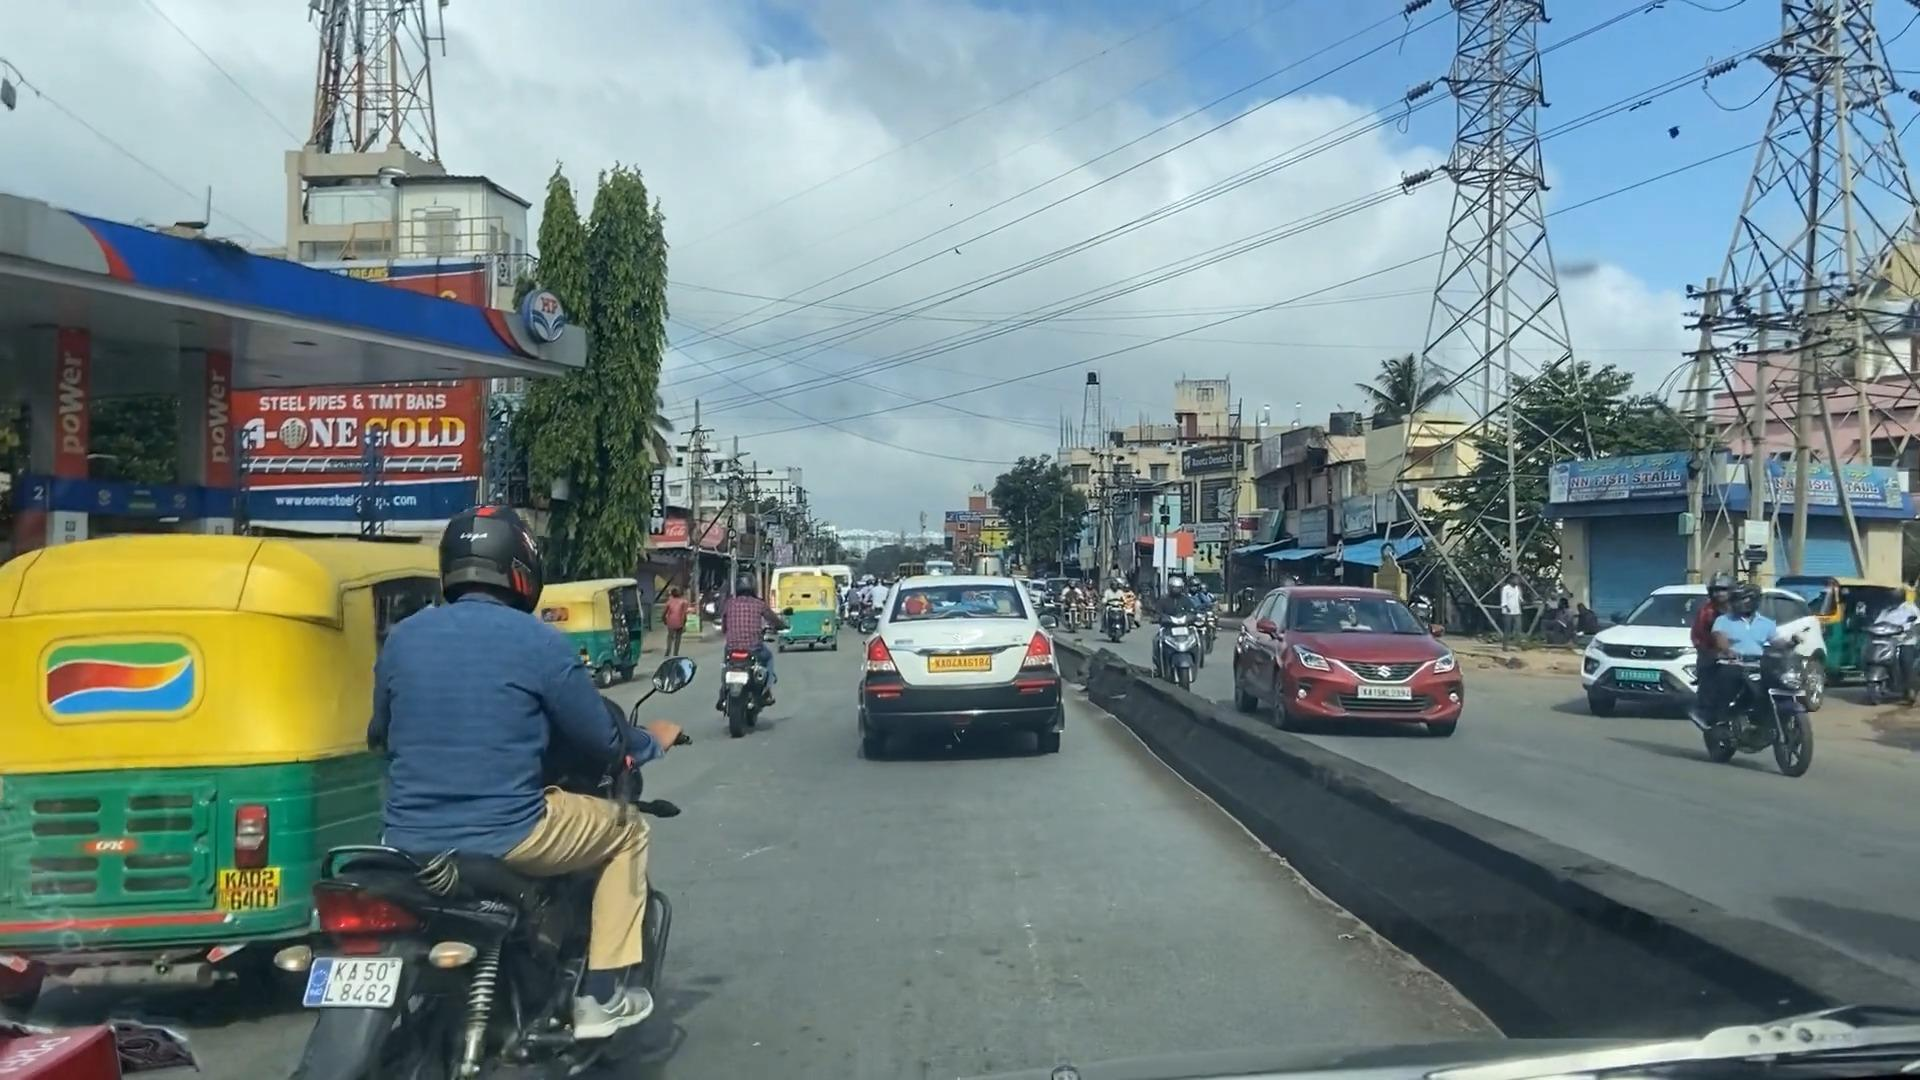LMV: (309, 481, 658, 1080), (861, 562, 1072, 765), (708, 578, 785, 736)
